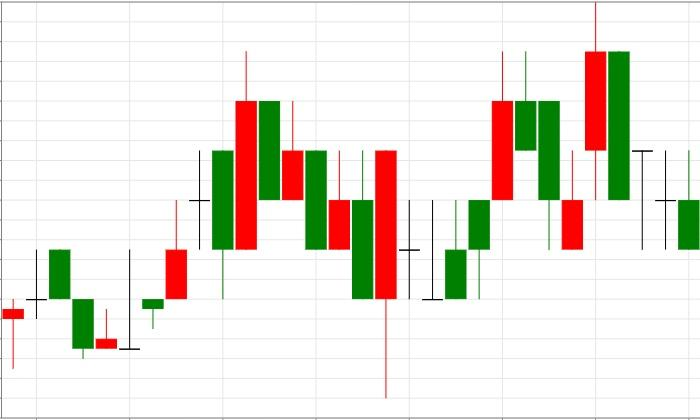bullish_engulfing_rise: (259, 101, 397, 399)
